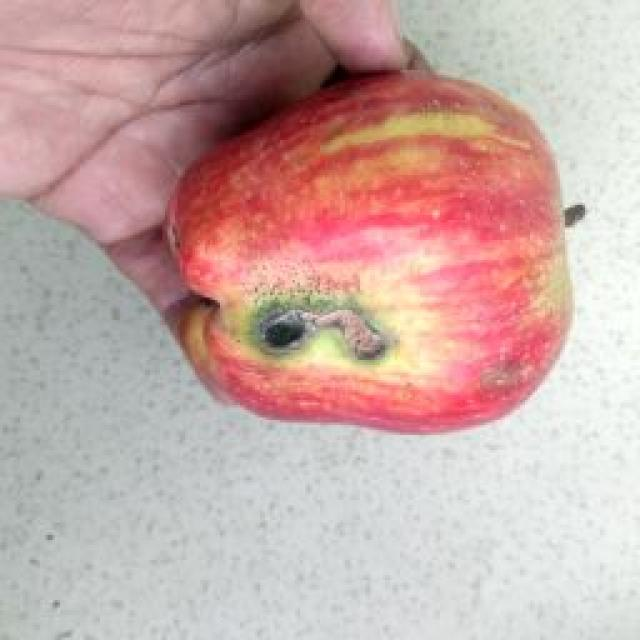Bad_Apple: (166, 72, 570, 432)
